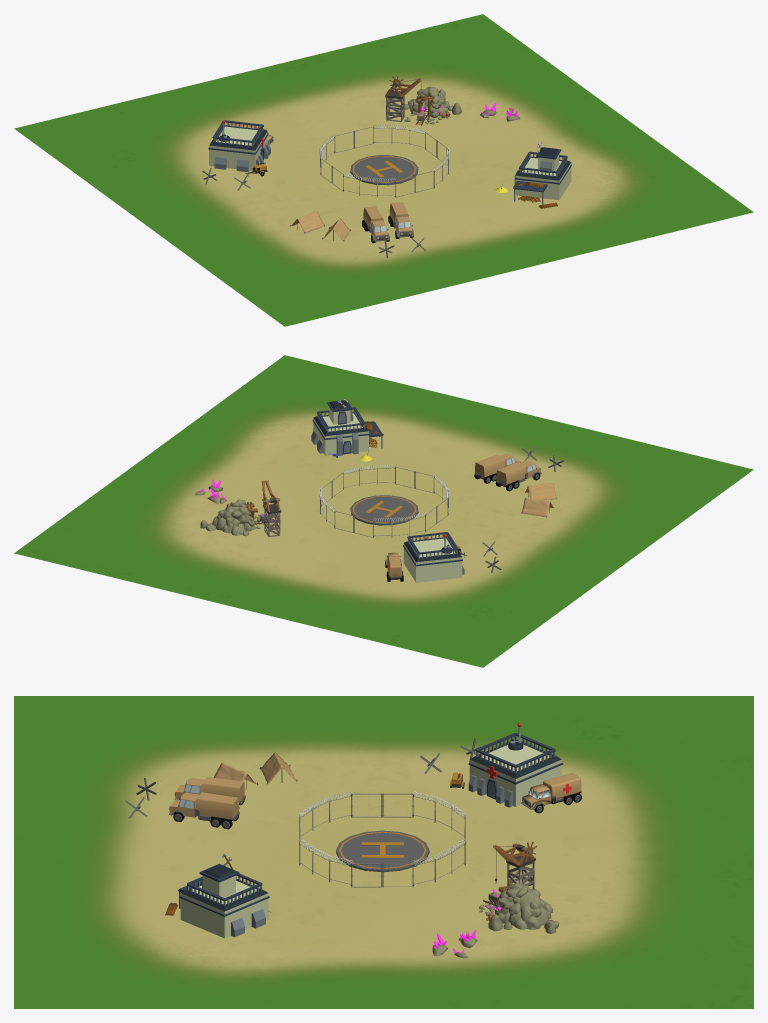
The model's file is map_demonstration.fbx.
3 views of the same model, one above another, from view 1: azimuth 30°, elevation 25°; view 2: azimuth 150°, elevation 25°; view 3: azimuth 270°, elevation 25° (orthographic). The views are drawn at different scales.
Visible parts, largest first — view 1: ground, hospital, builder_house, Spike.001, cave_entrance, Cylinder, metal_fence; view 2: ground, hospital, builder_house, Spike.001, cave_entrance, Cylinder, metal_fence; view 3: ground, hospital, builder_house, Spike.001, cave_entrance, Cylinder, metal_fence.
Part boxes in pixels (<box>): ground: <box>14,14,753,326</box>; hospital: <box>208,120,273,176</box>; builder_house: <box>495,141,571,208</box>; Spike.001: <box>290,202,426,257</box>; cave_entrance: <box>385,76,461,125</box>; Cylinder: <box>350,155,418,185</box>; metal_fence: <box>319,125,449,197</box>; ground: <box>14,355,753,667</box>; hospital: <box>385,532,466,582</box>; builder_house: <box>311,399,383,461</box>; Spike.001: <box>474,446,563,517</box>; cave_entrance: <box>200,480,281,536</box>; Cylinder: <box>350,495,418,525</box>; metal_fence: <box>319,465,449,537</box>; ground: <box>14,696,753,1008</box>; hospital: <box>449,723,581,813</box>; builder_house: <box>165,854,270,938</box>; Spike.001: <box>125,752,297,829</box>; cave_entrance: <box>479,841,558,933</box>; Cylinder: <box>336,830,429,872</box>; metal_fence: <box>298,791,466,887</box>.
Bounding box in the file's own units: 2400 × 233 × 2400.
